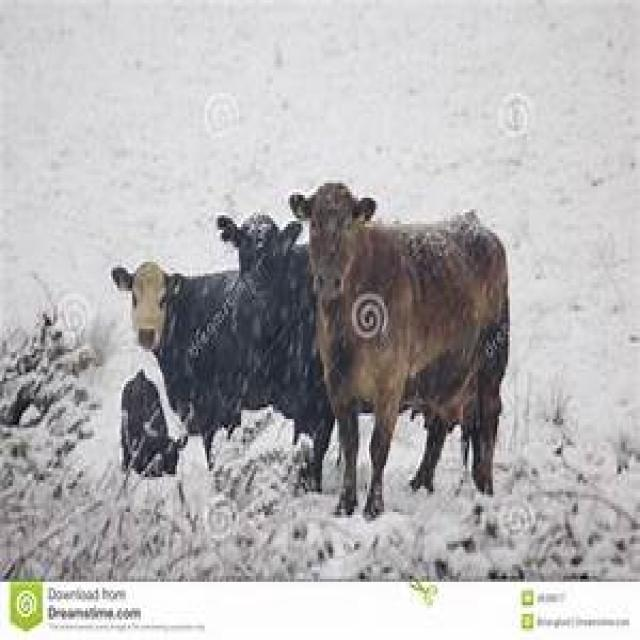cow: (288, 180, 510, 518), (109, 209, 277, 489), (215, 215, 336, 500), (117, 367, 188, 477)
